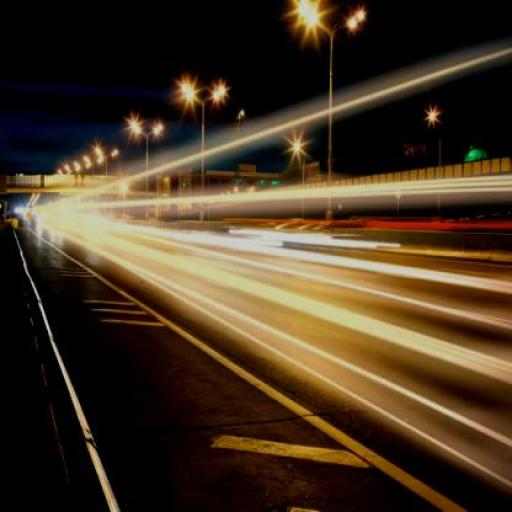street light: (298, 1, 367, 225), (181, 80, 226, 220), (130, 120, 162, 222), (426, 110, 444, 220), (96, 146, 121, 216)
